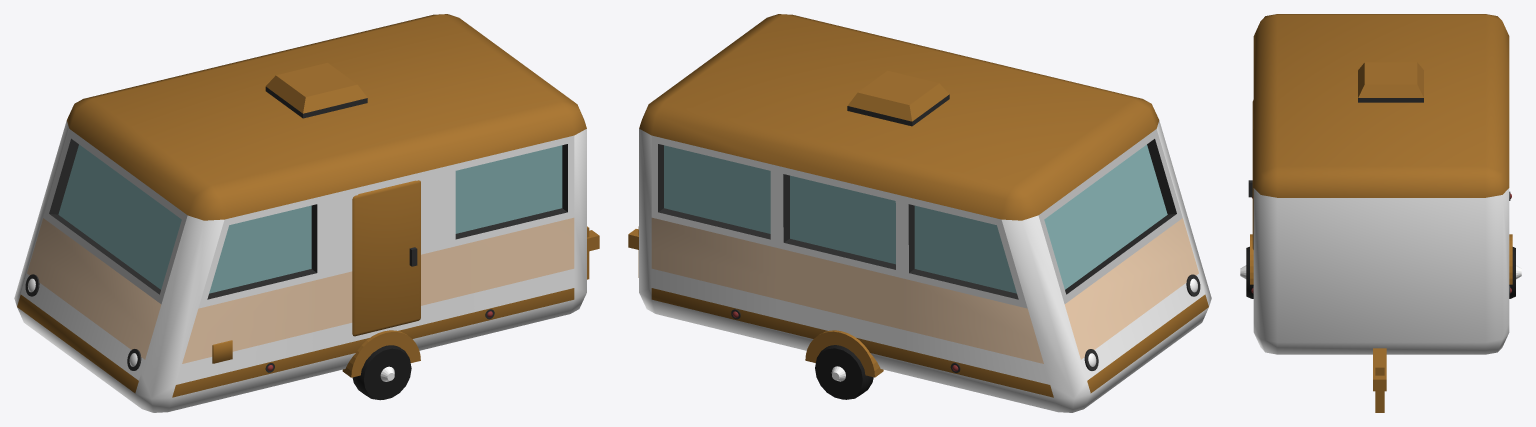
The model's file is CaravanBuilding.glb.
3 views of the same model, side by side, from view 1: azimuth 30°, elevation 25°; view 2: azimuth 150°, elevation 25°; view 3: azimuth 270°, elevation 25° (orthographic). The views are drawn at different scales.
Parts seen in each view (by area): view 1: Object_4, Object_5, Object_7, Object_6, Object_9, Object_8, Object_10; view 2: Object_4, Object_5, Object_6, Object_7, Object_9, Object_8, Object_10; view 3: Object_4, Object_5, Object_10, Object_9.
Boxes of the visible parts, box(x1,y1,x2,y2) form: Object_4: box(17, 14, 599, 397); Object_5: box(14, 120, 586, 412); Object_7: box(27, 217, 574, 363); Object_6: box(58, 144, 562, 293); Object_9: box(25, 87, 567, 372); Object_8: box(43, 129, 187, 304); Object_10: box(352, 345, 411, 400); Object_4: box(628, 14, 1208, 397); Object_5: box(639, 120, 1211, 412); Object_6: box(664, 144, 1167, 293); Object_7: box(651, 217, 1198, 363); Object_9: box(658, 94, 1200, 372); Object_8: box(1038, 129, 1182, 303); Object_10: box(815, 345, 873, 399); Object_4: box(1250, 14, 1512, 412); Object_5: box(1240, 188, 1521, 354); Object_10: box(1246, 246, 1515, 298); Object_9: box(1248, 98, 1510, 295).
Bounding box in the file's own units: 80.09 × 38.91 × 42.75.
